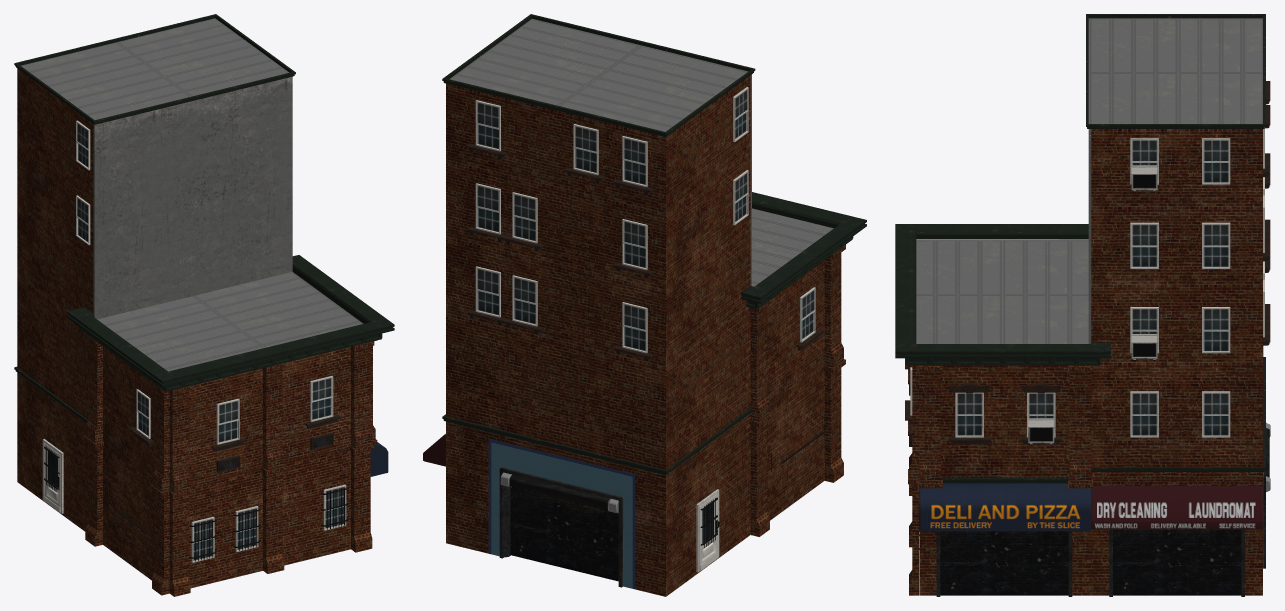
Rendered from Building.fbx.
The picture shows the model from 3 angles, left to right: view 1: azimuth 30°, elevation 25°; view 2: azimuth 150°, elevation 25°; view 3: azimuth 270°, elevation 25°; orthographic projection. The views are drawn at different scales.
Visible parts, largest first — view 1: Object_4.009; view 2: Object_4.009; view 3: Object_4.009.
Boxes of the visible parts, x1=… form: Object_4.009: x1=14, y1=14, x2=394, y2=596; Object_4.009: x1=423, y1=14, x2=866, y2=596; Object_4.009: x1=895, y1=14, x2=1270, y2=596.
Bounding box in the file's own units: 1418 × 2395 × 1725.
